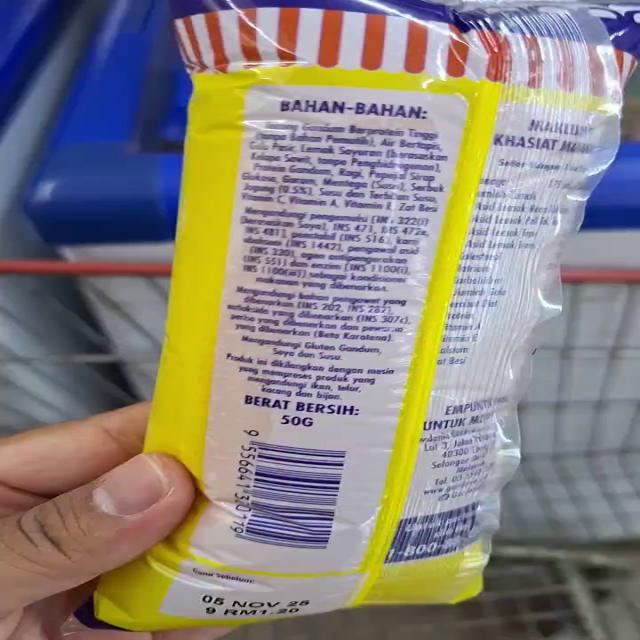Roti: (158, 0, 640, 359), (89, 306, 532, 626)
